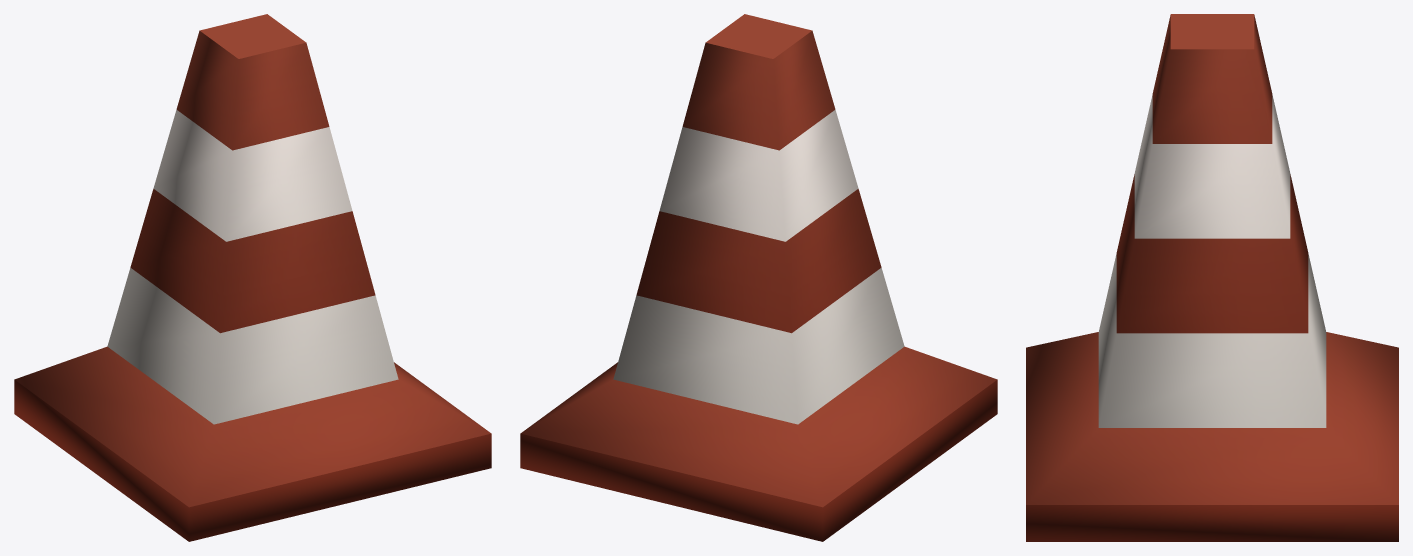
File: trafic-cone.fbx
3 views of the same model, side by side, from view 1: azimuth 30°, elevation 25°; view 2: azimuth 150°, elevation 25°; view 3: azimuth 270°, elevation 25° (orthographic). The views are drawn at different scales.
Parts seen in each view (by area): view 1: cone; view 2: cone; view 3: cone.
Boxes of the visible parts, bbox=[...] form: cone: bbox=[14, 14, 491, 541]; cone: bbox=[520, 14, 997, 541]; cone: bbox=[1026, 14, 1398, 541].
Bounding box in the file's own units: 0.7342 × 0.9382 × 0.7342.
